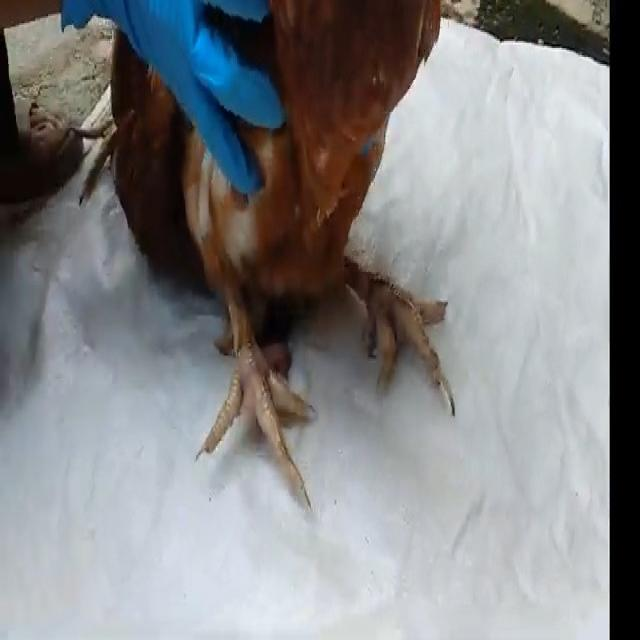bird flu: (97, 0, 474, 507)
